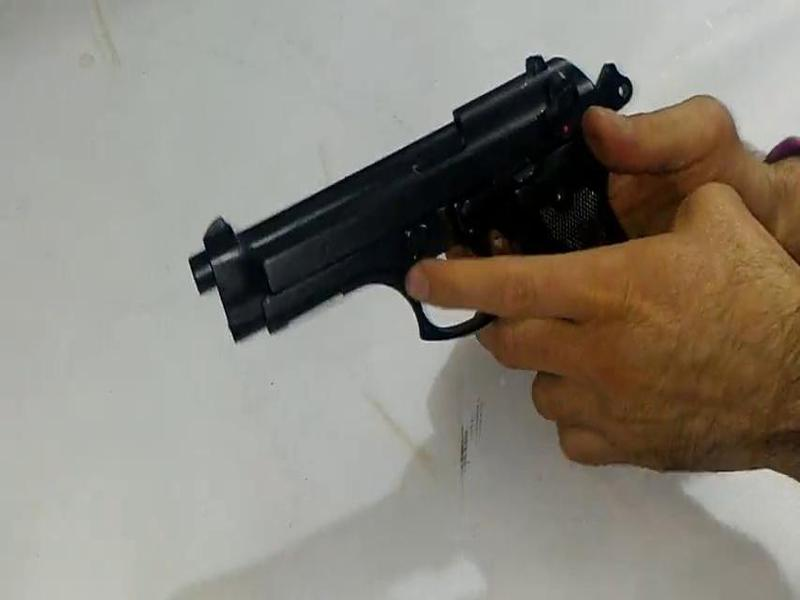Pistola: (150, 45, 640, 351)
